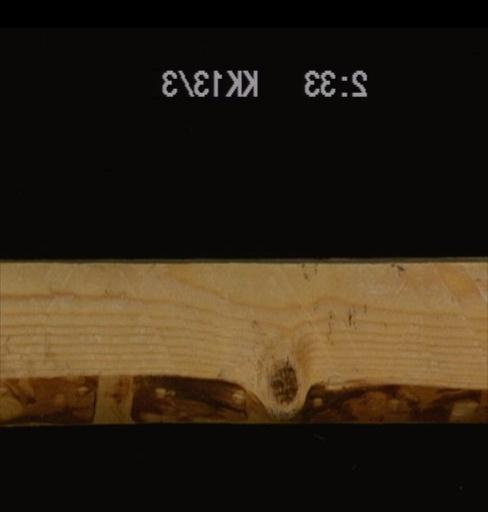sound_knot: (260, 360, 299, 403)
wave: (0, 369, 243, 423), (287, 369, 485, 426)
